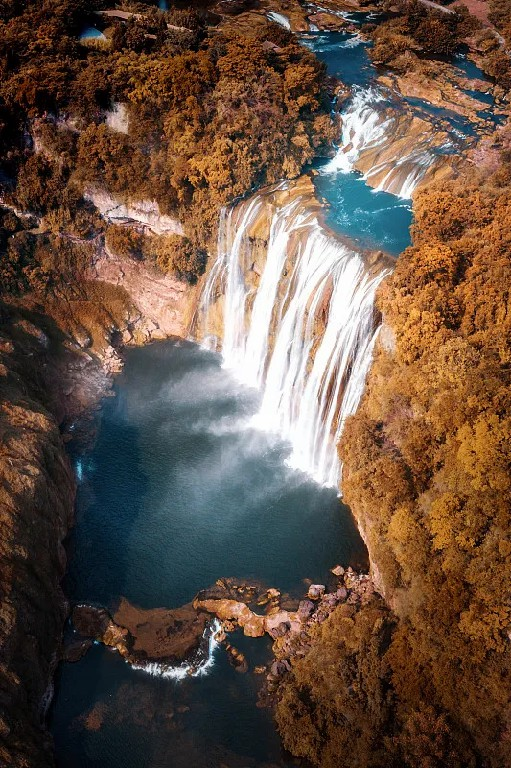Huangguoshu: (202, 184, 381, 489)
